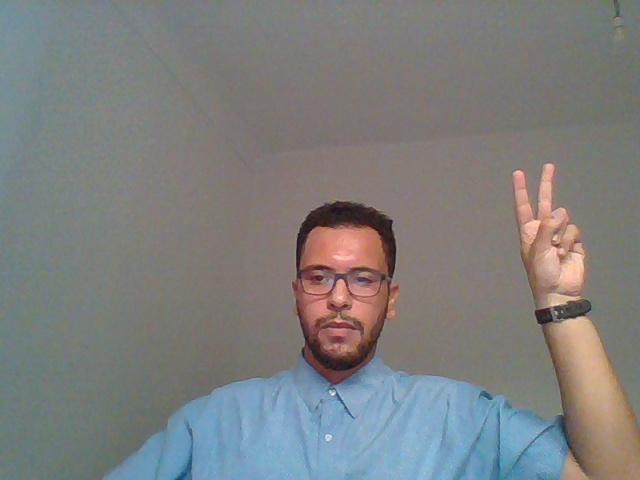vectory: (475, 146, 640, 409)
